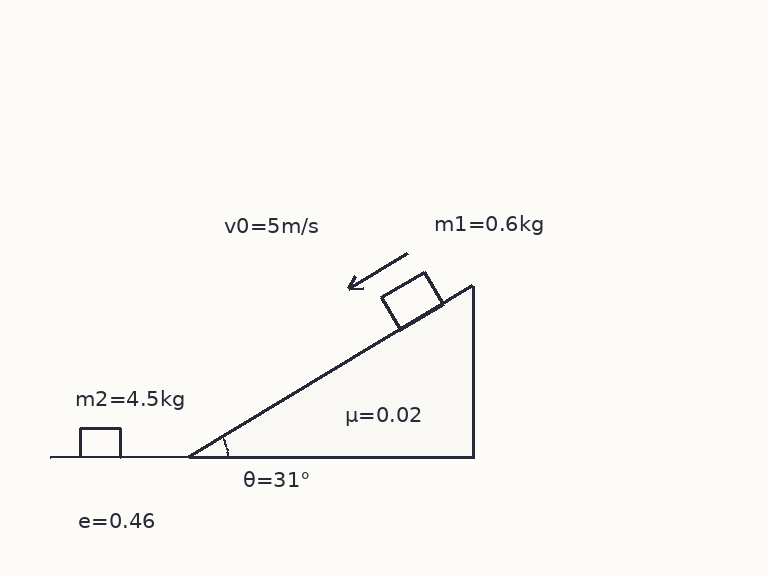block: (378, 269, 445, 332), (78, 426, 122, 459)
ramp: (186, 283, 475, 459)
